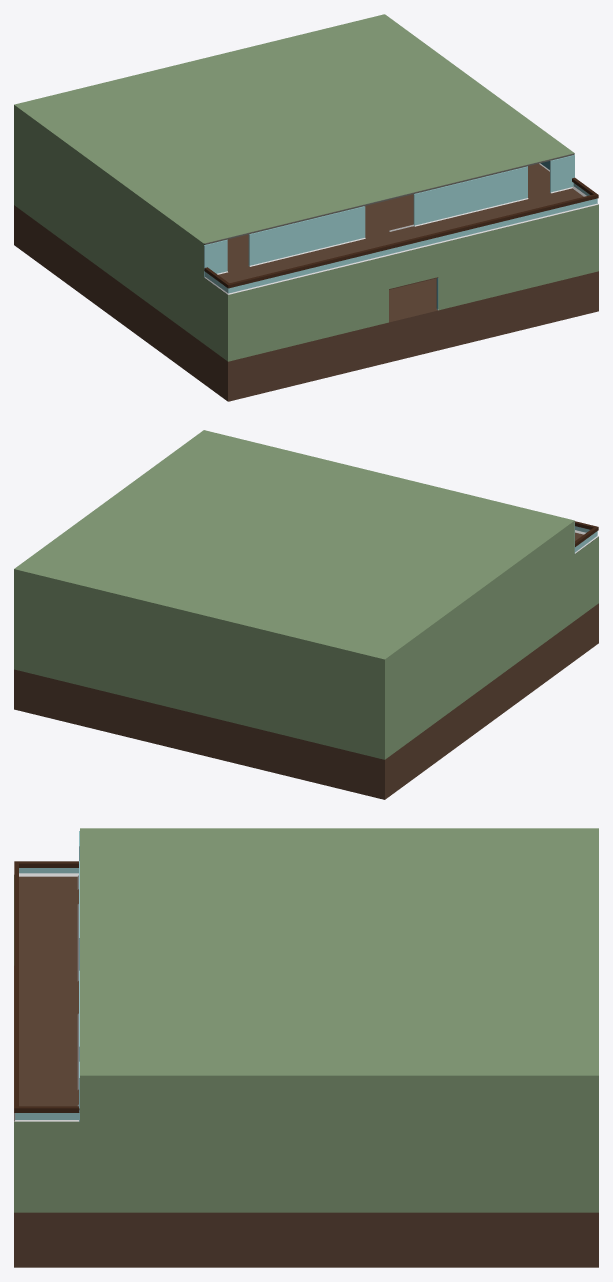
The model's file is Office Building.fbx.
3 views of the same model, one above another, from view 1: azimuth 30°, elevation 25°; view 2: azimuth 150°, elevation 25°; view 3: azimuth 270°, elevation 25° (orthographic). The views are drawn at different scales.
Visible parts, largest first — view 1: Outside, Floor, Floor 3, Walls F3.015, Walls F3.012, Fence Railing, Fence Glass, Fence BaseBoard, Roof, Walls F3.011, Walls F3.018, Walls F3.010; view 2: Outside, Floor; view 3: Outside, Floor, Floor 3, Fence Railing, Fence Glass, Fence BaseBoard.
Part boxes in pixels (box(x1,y1,x2,y2)): Outside: box(14, 14, 598, 361); Floor: box(14, 205, 598, 401); Floor 3: box(206, 163, 583, 289); Walls F3.015: box(248, 206, 365, 266); Walls F3.012: box(413, 172, 505, 226); Fence Railing: box(204, 177, 598, 288); Fence Glass: box(205, 183, 597, 293); Fence BaseBoard: box(204, 186, 598, 294); Roof: box(204, 153, 573, 244); Walls F3.011: box(550, 154, 574, 192); Walls F3.018: box(505, 166, 527, 203); Walls F3.010: box(204, 239, 227, 277); Outside: box(14, 430, 598, 759); Floor: box(14, 603, 598, 799); Outside: box(14, 828, 598, 1212); Floor: box(14, 966, 598, 1267); Floor 3: box(19, 876, 78, 1106); Fence Railing: box(14, 861, 79, 1112); Fence Glass: box(15, 868, 78, 1119); Fence BaseBoard: box(14, 873, 78, 1121).
Bounding box in the file's own units: 6056 × 2191 × 6056.
